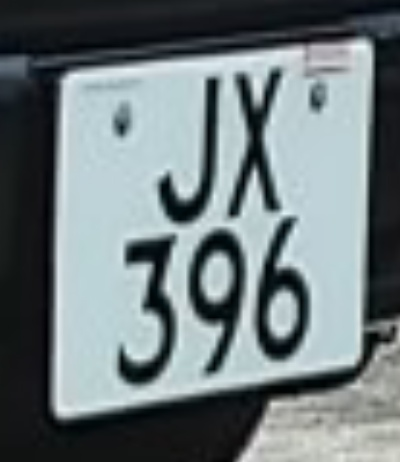3: (93, 227, 188, 400)
6: (242, 212, 325, 370)
9: (173, 223, 262, 388)
J: (140, 57, 235, 231)
X: (218, 62, 293, 230)
